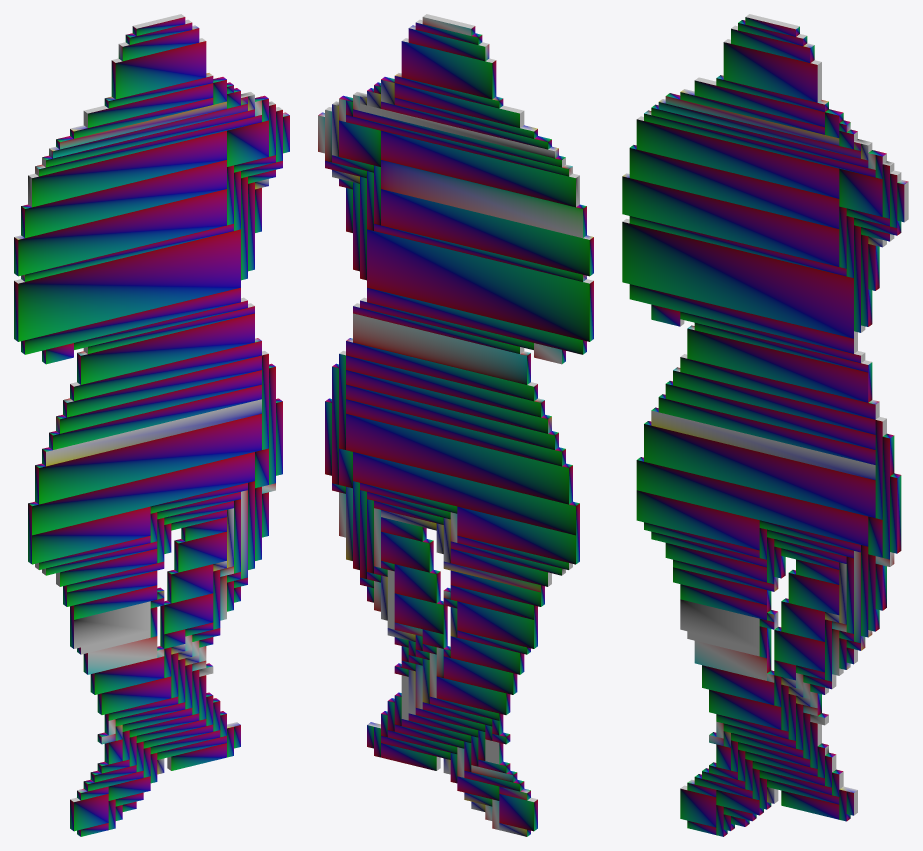
Rendered from boxerAttack_0.obj.
3 views of the same model, side by side, from view 1: azimuth 30°, elevation 25°; view 2: azimuth 150°, elevation 25°; view 3: azimuth 330°, elevation 25° (orthographic). The views are drawn at different scales.
Size of the model in its own units: 39 by 109 by 1.
